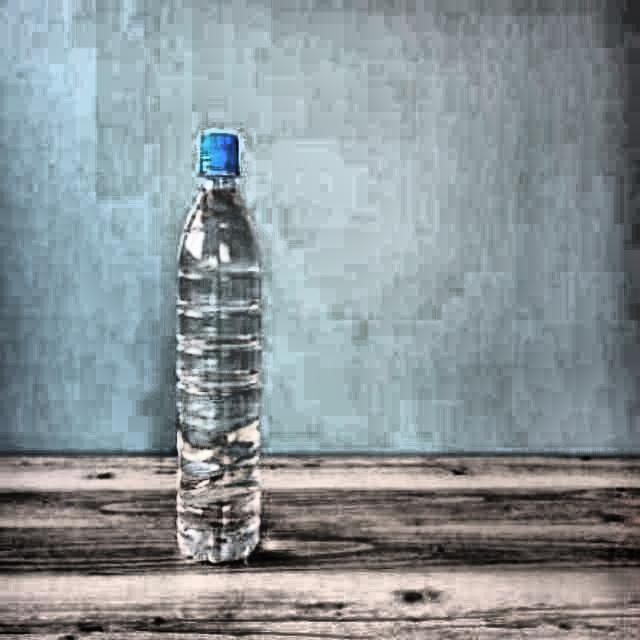Bottles: (158, 119, 285, 576)
